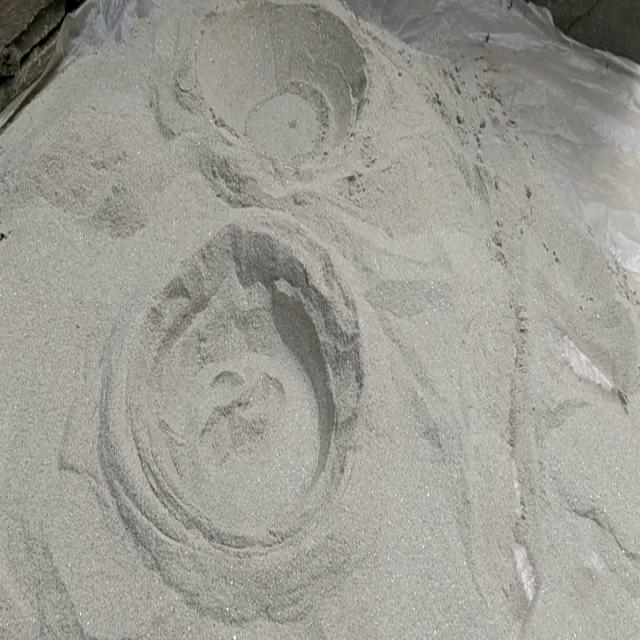C20: (0, 0, 640, 637)
